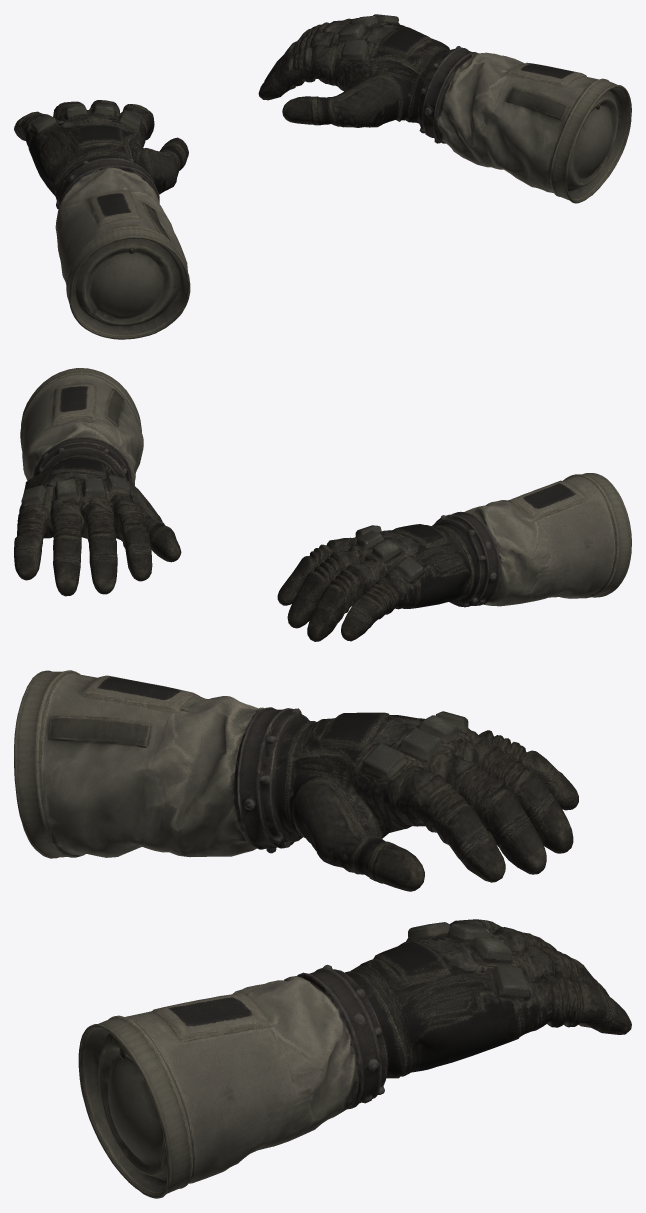
The model's file is eva_gloves_pair.glb.
3 views of the same model, one above another, from view 1: azimuth 30°, elevation 25°; view 2: azimuth 150°, elevation 25°; view 3: azimuth 270°, elevation 25° (orthographic). The views are drawn at different scales.
Visible parts, largest first — view 1: EVA_Right, EVA_Left; view 2: EVA_Left, EVA_Right; view 3: EVA_Left, EVA_Right.
Part boxes in pixels (x1,y1,x2,y2): EVA_Right: [258, 14, 631, 203]; EVA_Left: [14, 100, 190, 339]; EVA_Left: [277, 473, 631, 641]; EVA_Right: [14, 368, 181, 596]; EVA_Left: [14, 670, 578, 891]; EVA_Right: [78, 919, 631, 1198].
Bounding box in the file's own units: 0.8645 × 0.1763 × 0.5311.
Materials: 1 (1 with a texture image).
